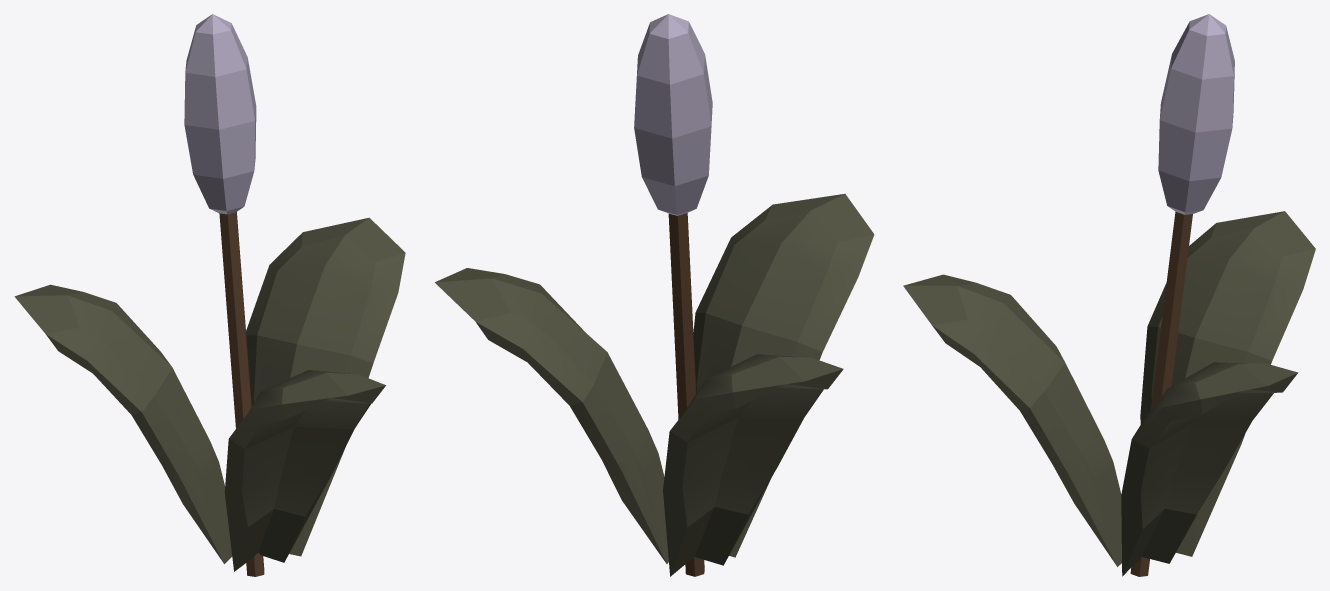
Rendered from Bloem2.fbx.
3 views of the same model, side by side, from view 1: azimuth 30°, elevation 25°; view 2: azimuth 150°, elevation 25°; view 3: azimuth 270°, elevation 25° (orthographic). The views are drawn at different scales.
Visible parts, largest first — view 1: Lavendel; view 2: Lavendel; view 3: Lavendel.
Boxes of the visible parts, <box> form: Lavendel: <box>14,14,405,576</box>; Lavendel: <box>435,14,874,576</box>; Lavendel: <box>903,14,1315,576</box>.
Bounding box in the file's own units: 0.0383 × 0.0559 × 0.0377.
